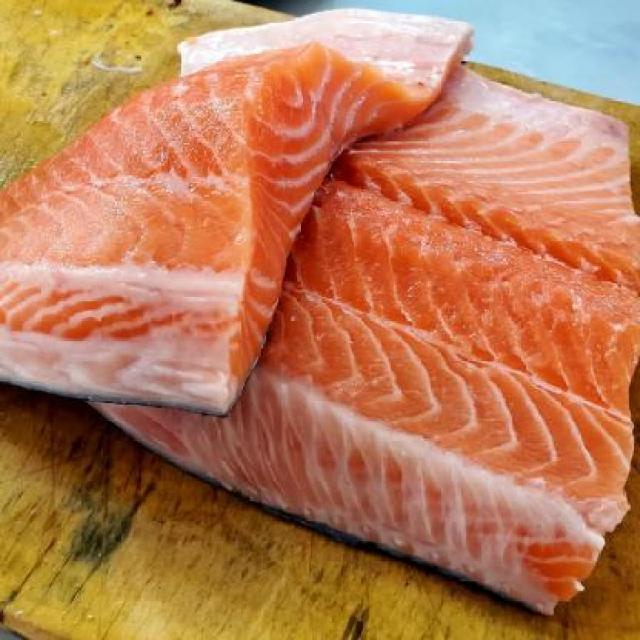salmon: (74, 58, 639, 624), (5, 18, 477, 407)
